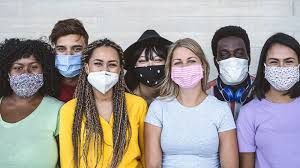FaceMask: (264, 66, 300, 90), (219, 56, 248, 85), (9, 73, 43, 97), (87, 70, 119, 94), (171, 65, 203, 88)
